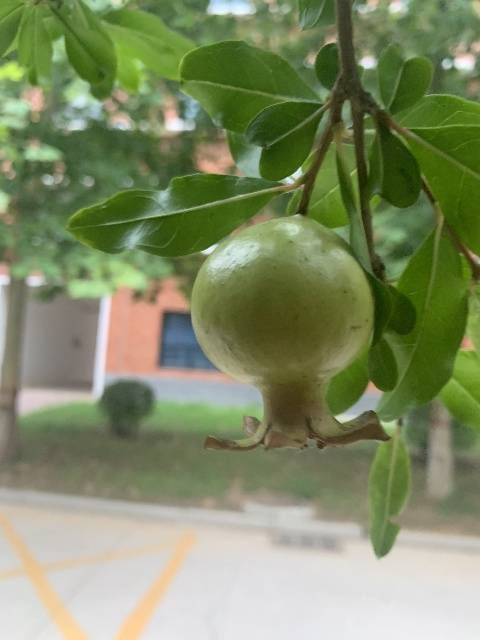mid-growth: (189, 214, 391, 450)
